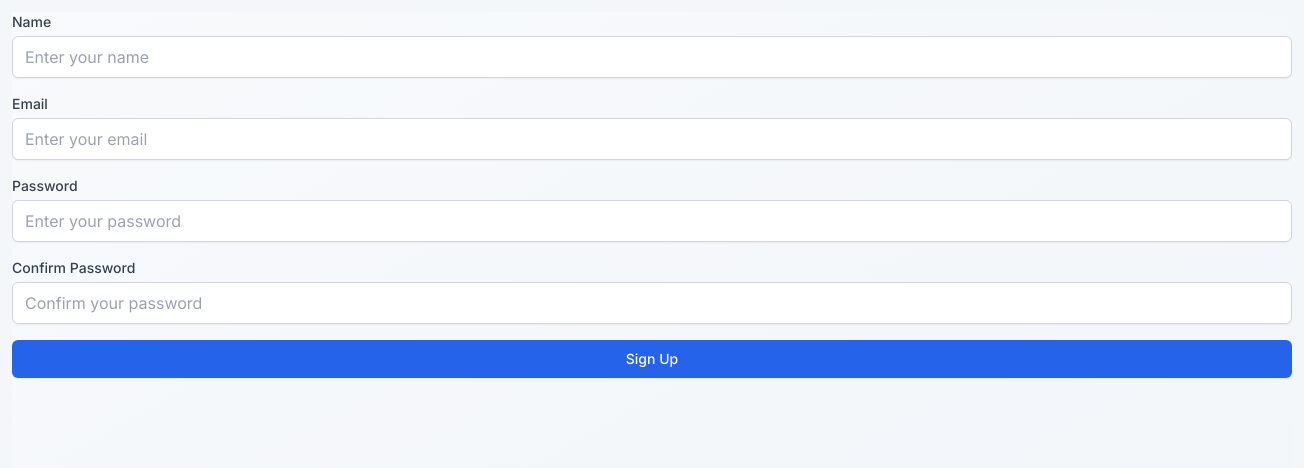
Test: SignupForm › should show validation error for invalid email format
Type "invalid-email@domain" into the field with test id "email" at (652, 139), box x1=12 y1=118 x2=1292 y2=160
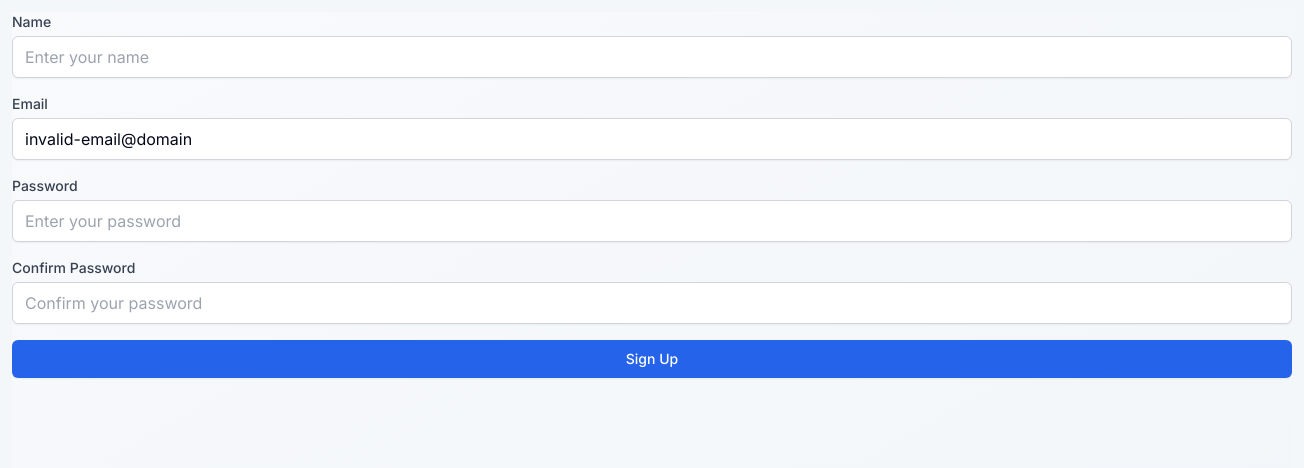
Type "Password123" into the password field with test id "password" at (652, 221), box x1=12 y1=200 x2=1292 y2=242
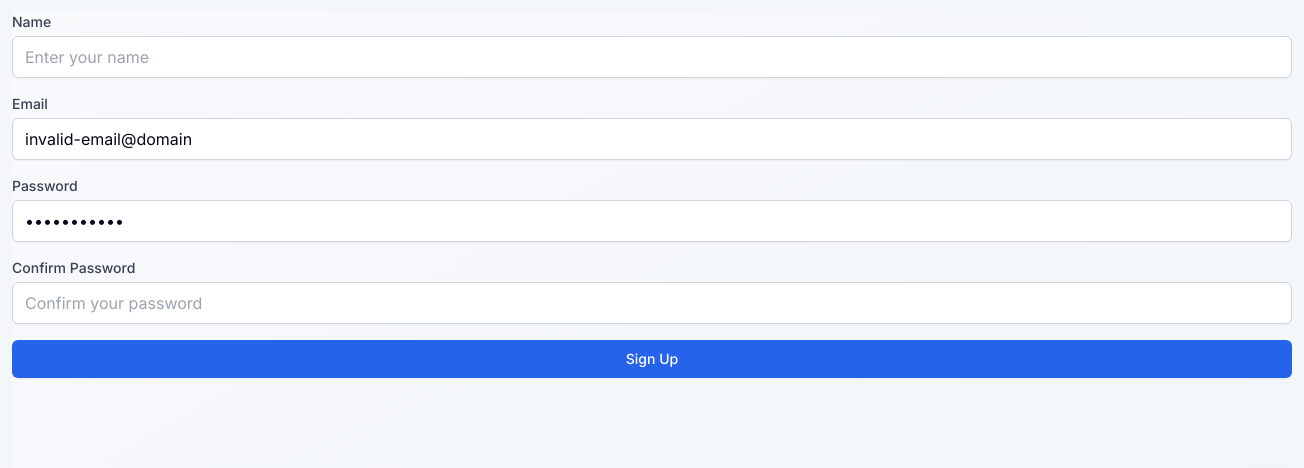
Type "Password123" into the password field with test id "confirmPassword" at (652, 303), box x1=12 y1=282 x2=1292 y2=324
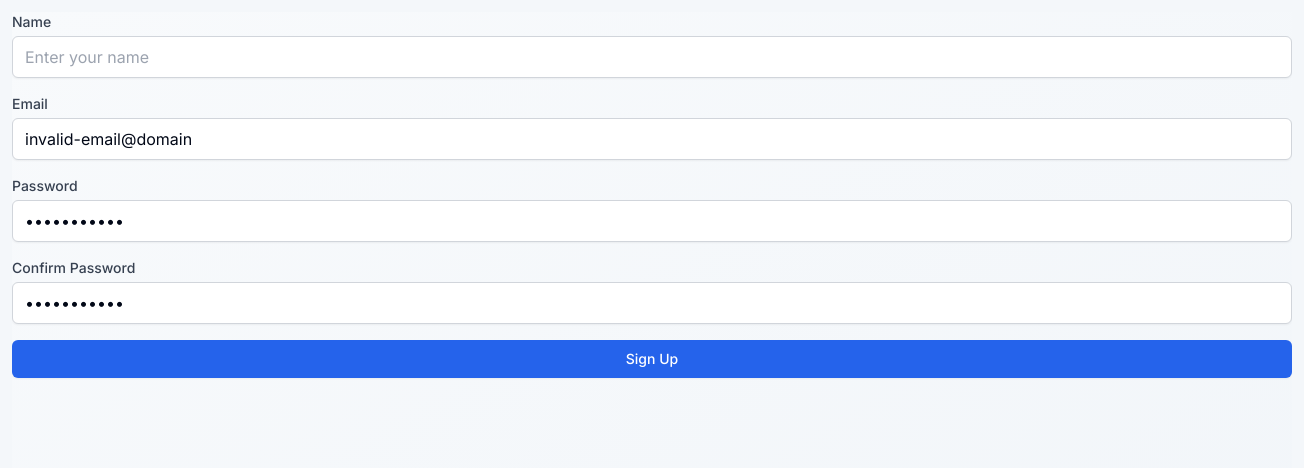
Click the button with test id "signup-button" at (652, 359), box x1=12 y1=340 x2=1292 y2=378
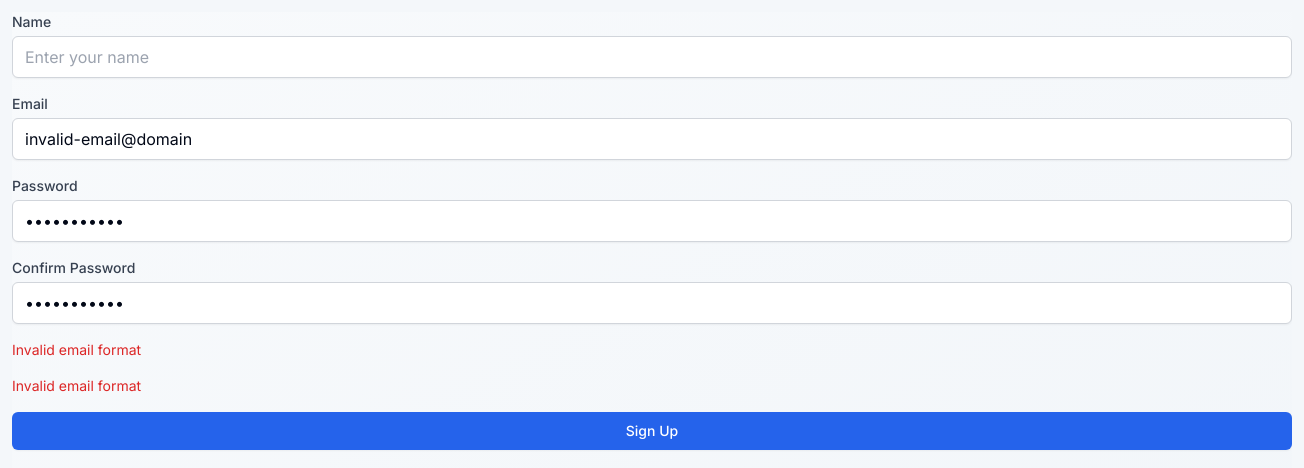
Now the 2nd text "Invalid email format" is shown, box x1=12 y1=377 x2=141 y2=394
